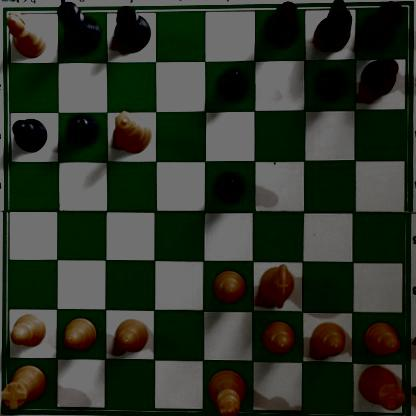black-bishop: (261, 1, 302, 49), (114, 1, 151, 54)
black-king: (57, 1, 103, 57)
black-knight: (314, 1, 354, 54)
black-pawn: (309, 65, 348, 105), (361, 57, 399, 96), (61, 113, 101, 150), (215, 66, 251, 106), (10, 118, 48, 153), (212, 170, 247, 206)
black-rook: (354, 1, 405, 54)
white-bishop: (7, 10, 51, 60)
white-king: (205, 364, 248, 416)
white-knight: (257, 262, 296, 308)
white-pawn: (8, 307, 49, 350), (360, 319, 399, 361), (61, 314, 101, 353), (258, 319, 297, 357), (210, 266, 246, 307), (114, 314, 150, 354), (308, 322, 347, 357)
white-queen: (112, 109, 154, 155)
white-rook: (354, 363, 406, 410), (1, 362, 49, 411)
